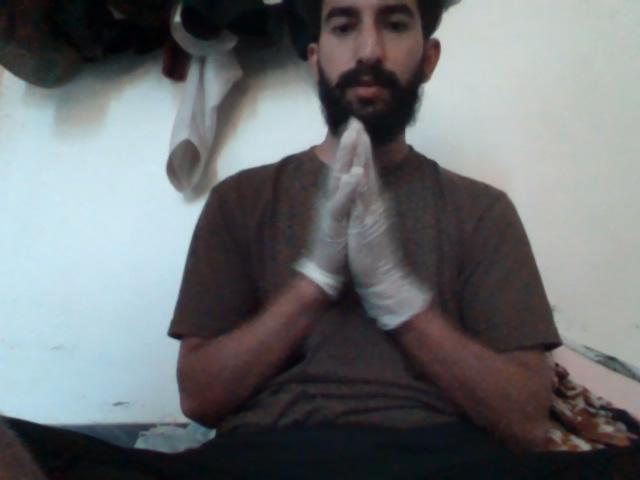gloves: (284, 111, 420, 300)
